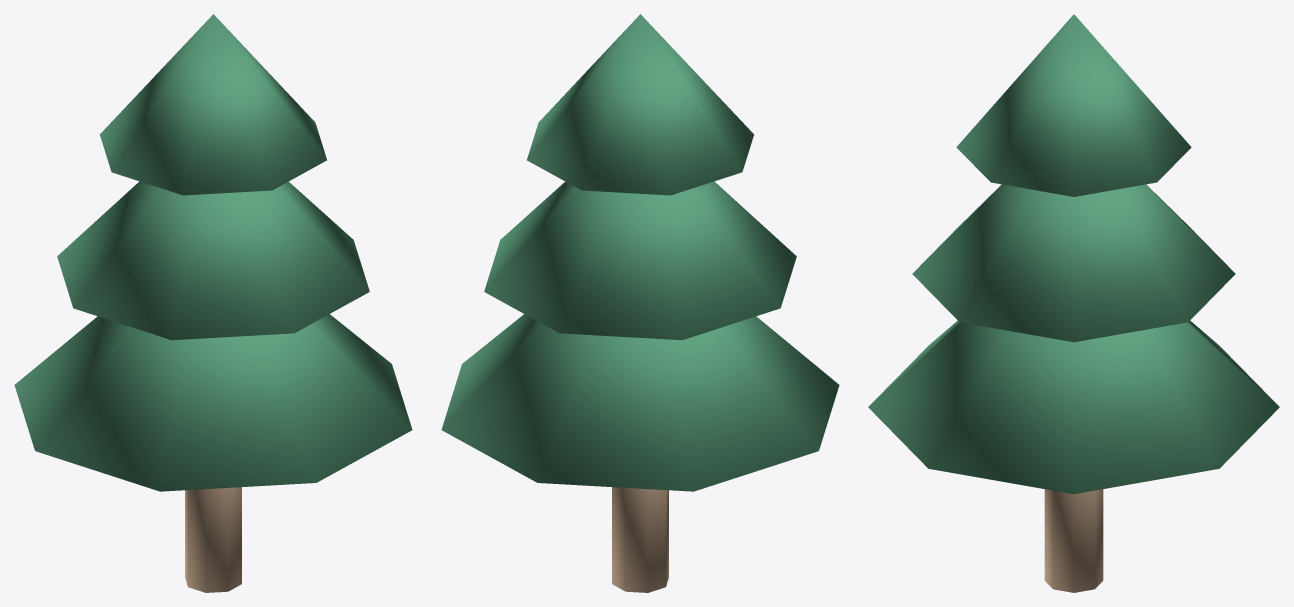
Rendered from pine_tree.glb.
The picture shows the model from 3 angles, left to right: view 1: azimuth 30°, elevation 25°; view 2: azimuth 150°, elevation 25°; view 3: azimuth 270°, elevation 25°; orthographic projection.
Parts seen in each view (by area): view 1: cone1, cone2, cone3, trunk; view 2: cone1, cone2, cone3, trunk; view 3: cone1, cone2, cone3, trunk.
Part boxes in pixels (x1,y1,x2,y2): cone1: (14,314,412,491); cone2: (57,181,369,340); cone3: (100,14,326,195); trunk: (185,487,241,592); cone1: (441,314,839,491); cone2: (484,181,796,340); cone3: (527,14,753,195); trunk: (612,487,668,592); cone1: (868,320,1279,494); cone2: (912,184,1235,342); cone3: (956,14,1191,196); trunk: (1044,489,1103,592).
Size of the model in its own units: 0.56 by 0.85 by 0.56.
